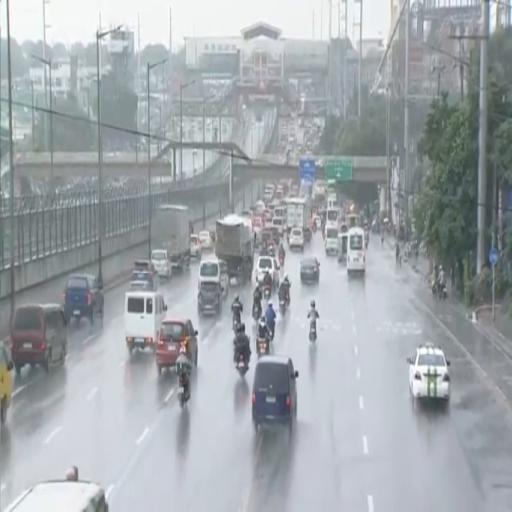bus: (347, 228, 365, 275), (326, 207, 339, 228), (347, 214, 359, 228)
car: (11, 304, 67, 375), (252, 356, 298, 430), (5, 480, 108, 511), (407, 343, 450, 402), (156, 319, 198, 373), (63, 275, 104, 325), (0, 342, 13, 427), (256, 256, 279, 286), (152, 249, 172, 278), (131, 270, 157, 291), (300, 258, 320, 282), (289, 228, 304, 250), (190, 234, 201, 259), (198, 231, 212, 250), (134, 261, 154, 273), (314, 216, 321, 229)
motorcycle: (178, 373, 189, 407), (236, 352, 248, 376), (432, 282, 447, 300), (257, 338, 269, 357), (309, 320, 317, 342), (252, 302, 261, 321), (233, 313, 240, 332), (268, 322, 275, 341), (279, 298, 286, 314), (264, 284, 271, 299), (279, 252, 284, 268), (312, 222, 318, 233)
truck: (216, 215, 253, 282), (152, 204, 190, 269), (285, 198, 311, 242)
